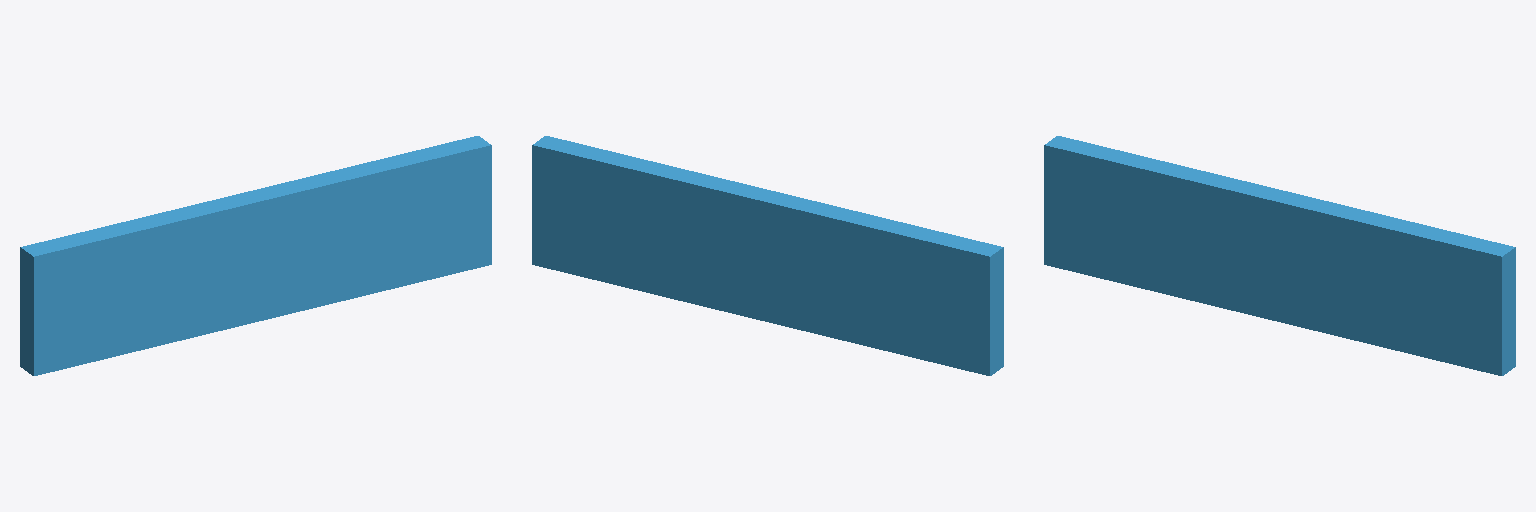
The robot description file, URDF, robot "goal_a":
<?xml version="1.0" ?>
<!-- =================================================================================== -->
<!-- |    This document was autogenerated by xacro from [local-path]/catkin_ws/src/rktl_3/rktl_sim/urdf/goal_b.urdf.xacro | -->
<!-- |    EDITING THIS FILE BY HAND IS NOT RECOMMENDED                                 | -->
<!-- =================================================================================== -->
<robot name="goal_a">
  <!-- Base frame of goal -->
  <link name="base_link">
    <inertial>
      <mass value="0"/>
      <inertia ixx="0.2" ixy="0" ixz="0" iyy="0.2" iyz="0.0" izz="0.2"/>
    </inertial>
  </link>
  <link name="goal_link">
    <visual>
      <geometry>
        <box size="1.0 0.05 0.25"/>
      </geometry>
    </visual>
    <collision>
      <geometry>
        <box size="1.0 0.05 0.25"/>
      </geometry>
    </collision>
  </link>
  <joint name="goal_joint" type="fixed">
    <origin rpy="0 0 0" xyz="0 -2.35 0"/>
    <parent link="base_link"/>
    <child link="goal_link"/>
  </joint>
</robot>

--- Facts derived from the render (not from the file) ---
Views: 3 orthographic renders of the robot side by side, from view 1: azimuth 30°, elevation 25°; view 2: azimuth 150°, elevation 25°; view 3: azimuth 330°, elevation 25°.
Robot: goal_a — 2 links, 1 joints (1 fixed); root link base_link; default pose: all joints at 0.
Visible links, largest first — view 1: goal_link; view 2: goal_link; view 3: goal_link.
Boxes of the visible links, bbox=[...] form: goal_link: bbox=[20, 136, 491, 375]; goal_link: bbox=[532, 136, 1003, 375]; goal_link: bbox=[1044, 136, 1515, 375].
Bounding box of the posed robot: 1 × 0.05 × 0.25 m (x, y, z).
Geometry: primitives only (box / cylinder / sphere), no mesh files.